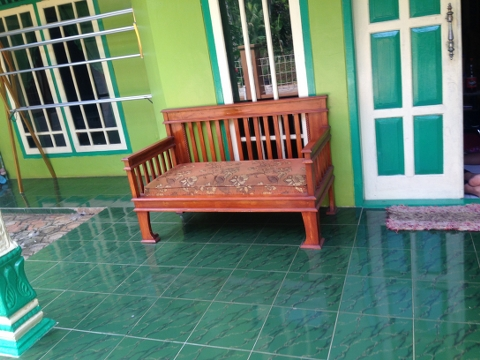kursi: (122, 95, 339, 250)
